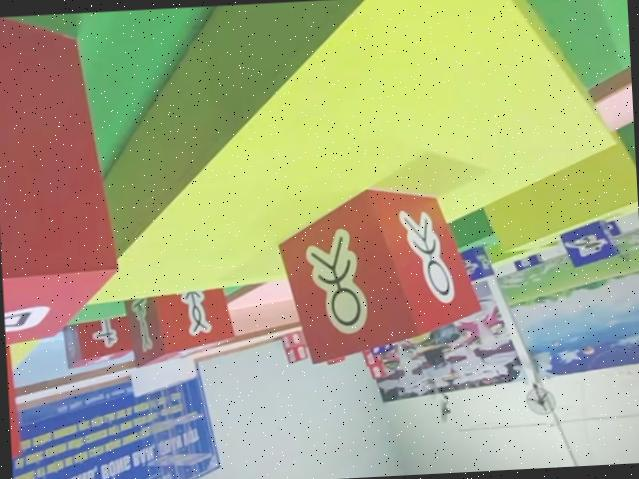R2 Real: (276, 180, 484, 367), (124, 279, 236, 369)
